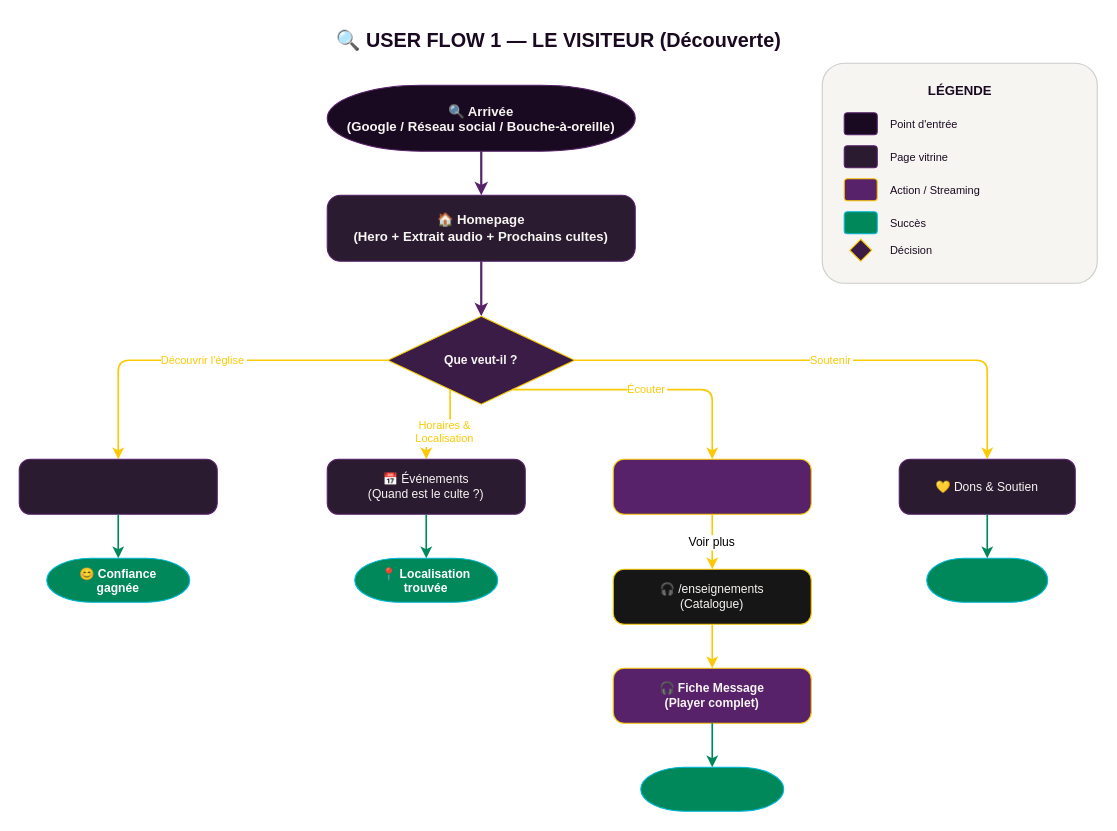
This 1117x831 diagram has some shape labels left out. Each missing label, with the box of its shape:
🎧 Écouter un extrait (Player hero): (612, 458, 811, 514)
💳 Transaction: (926, 557, 1048, 602)
📖 À Propos (Vision, Équipe, Valeurs): (18, 458, 217, 514)
😍 Impression positive: (640, 766, 784, 811)
